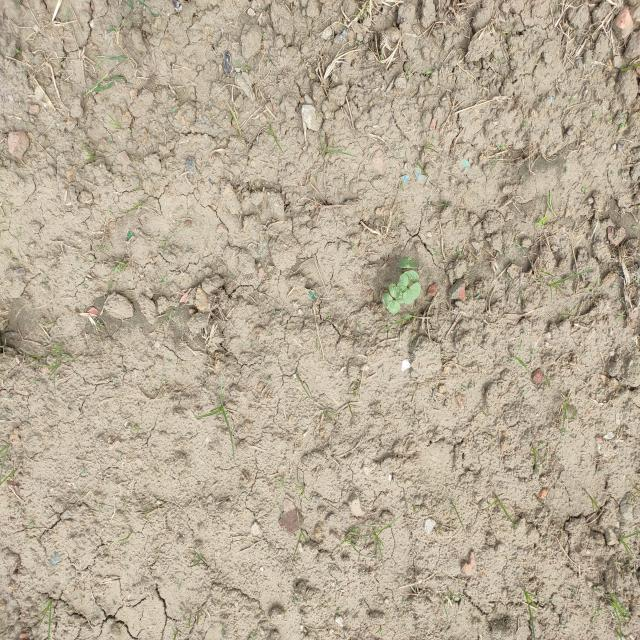seedling_s2: (397, 270, 419, 292), (403, 283, 421, 305), (382, 293, 400, 315), (389, 284, 404, 303), (398, 257, 419, 268)
